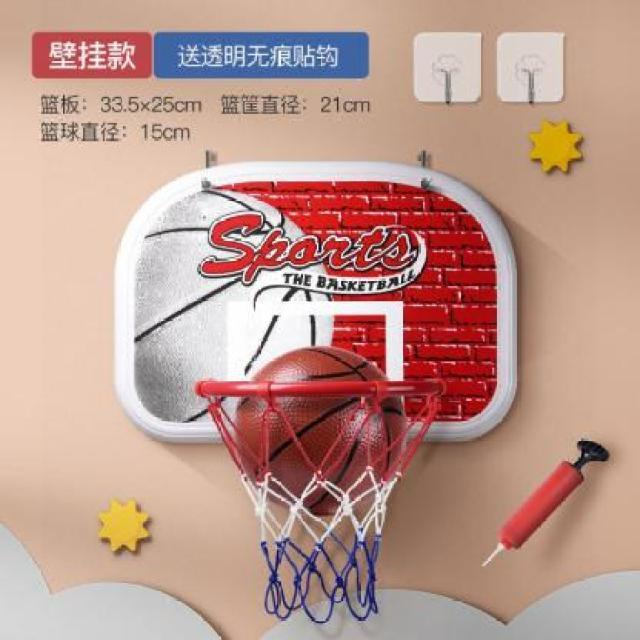basketball: (230, 348, 406, 514)
rim: (196, 381, 444, 621)
